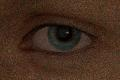eye: (49, 25, 79, 49)
